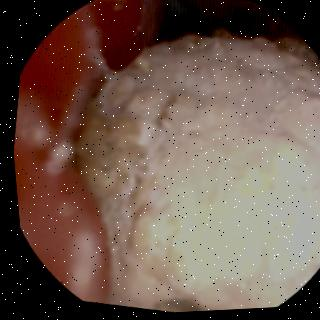stone: (73, 35, 320, 314)
tissue: (11, 0, 166, 304)
